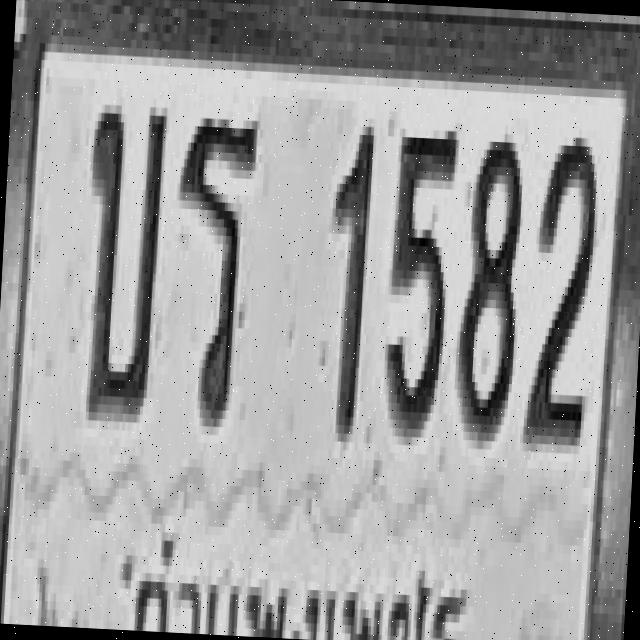1: (321, 121, 374, 439)
2: (523, 128, 599, 446)
35BorBaiMai: (77, 96, 168, 423)
44RorRuea: (166, 109, 260, 429)
5: (382, 120, 458, 439)
8: (452, 132, 525, 442)
KamphaengPhet: (120, 512, 491, 640)
